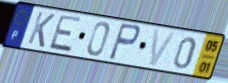0: (172, 36, 200, 70), (86, 20, 111, 57)
E: (47, 13, 85, 54)
K: (26, 10, 57, 50)
P: (106, 22, 142, 63)
V: (148, 28, 178, 68)
